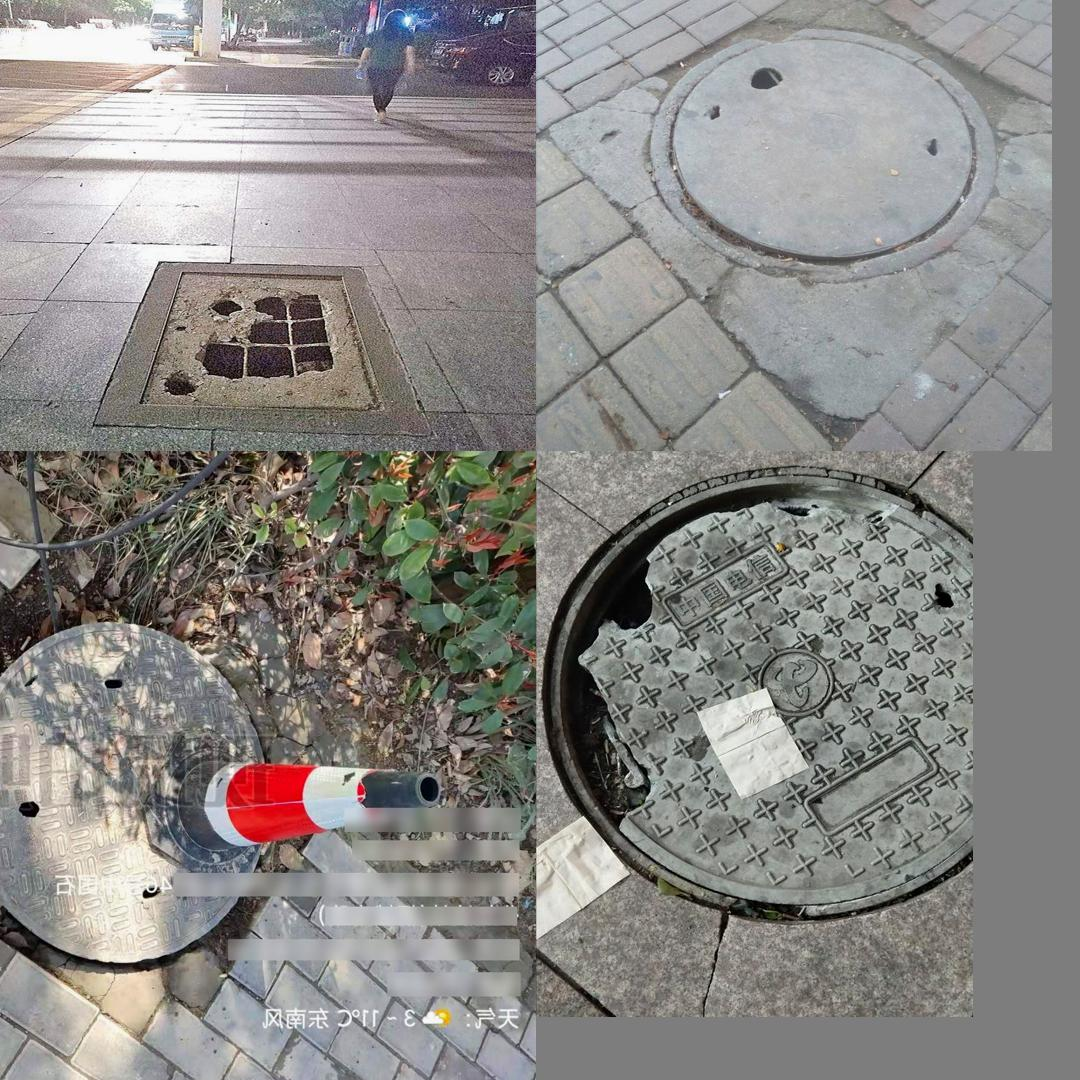broke: (545, 463, 966, 926), (0, 620, 276, 963), (647, 27, 1000, 284), (84, 260, 430, 434)
